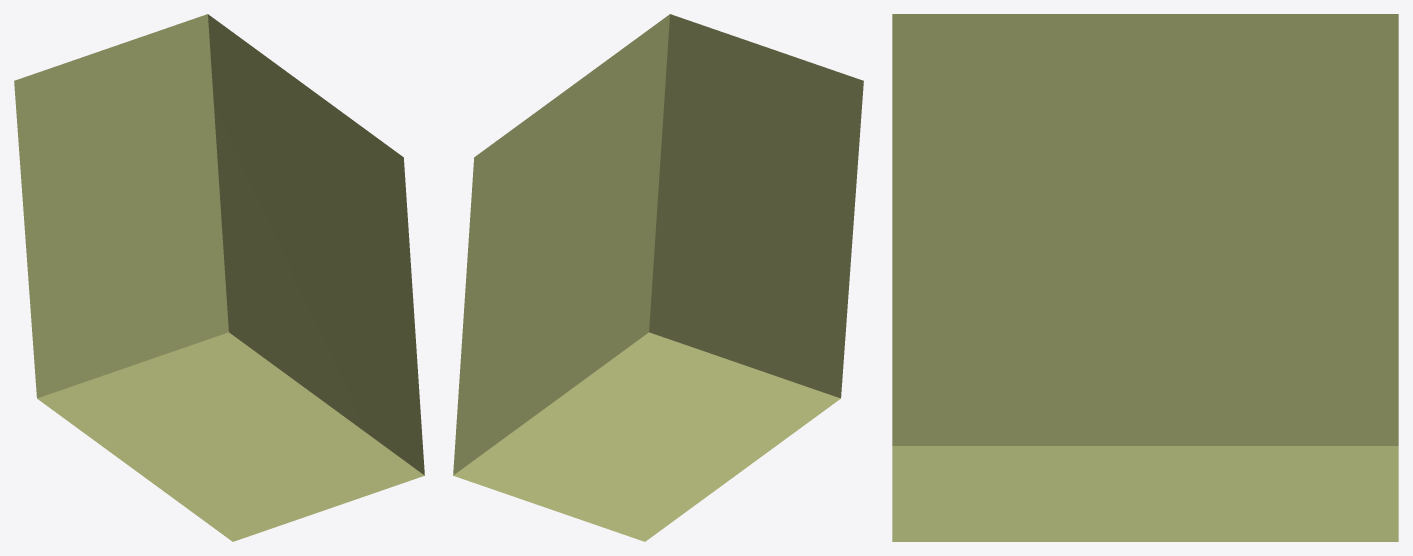
The picture shows the model from 3 angles, left to right: view 1: azimuth 30°, elevation 25°; view 2: azimuth 150°, elevation 25°; view 3: azimuth 270°, elevation 25°; orthographic projection. The views are drawn at different scales.
Visible parts, largest first — view 1: 0_1_1_3_2_2_3_2_3_0; view 2: 0_1_1_3_2_2_3_2_3_0; view 3: 0_1_1_3_2_2_3_2_3_0.
Boxes of the visible parts, x1=… form: 0_1_1_3_2_2_3_2_3_0: x1=14, y1=14, x2=424, y2=541; 0_1_1_3_2_2_3_2_3_0: x1=453, y1=14, x2=863, y2=541; 0_1_1_3_2_2_3_2_3_0: x1=892, y1=14, x2=1398, y2=541.
Bounding box in the file's own units: 3.8 × 5.79 × 6.
